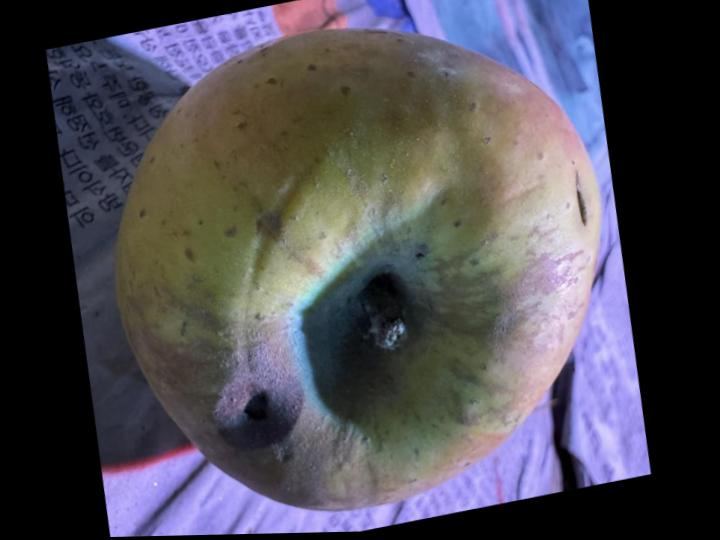apple: (117, 29, 599, 510)
bruise_discoloration: (126, 247, 591, 510)
rot_mold_decay: (124, 311, 340, 510)
